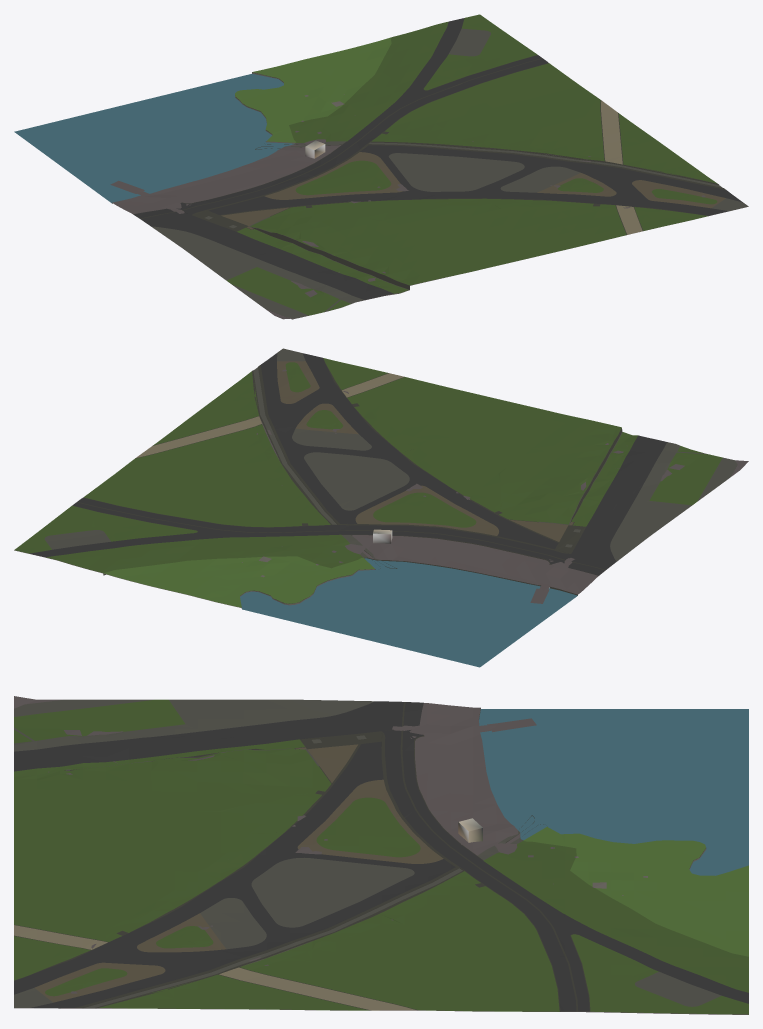
3 views of the same model, one above another, from view 1: azimuth 30°, elevation 25°; view 2: azimuth 150°, elevation 25°; view 3: azimuth 270°, elevation 25° (orthographic). The views are drawn at different scales.
Visible parts, largest first — view 1: c_m08_m07, append:c_m08_m07; view 2: c_m08_m07, append:c_m08_m07; view 3: c_m08_m07, append:c_m08_m07.
Boxes of the visible parts, x1=… form: c_m08_m07: x1=14, y1=14, x2=748, y2=319; append:c_m08_m07: x1=235, y1=37, x2=391, y2=143; c_m08_m07: x1=14, y1=348, x2=748, y2=667; append:c_m08_m07: x1=103, y1=556, x2=375, y2=608; c_m08_m07: x1=14, y1=696, x2=748, y2=1014; append:c_m08_m07: x1=524, y1=826, x2=748, y2=956.
Bounding box in the file's own units: 128 × 3.35 × 128.
